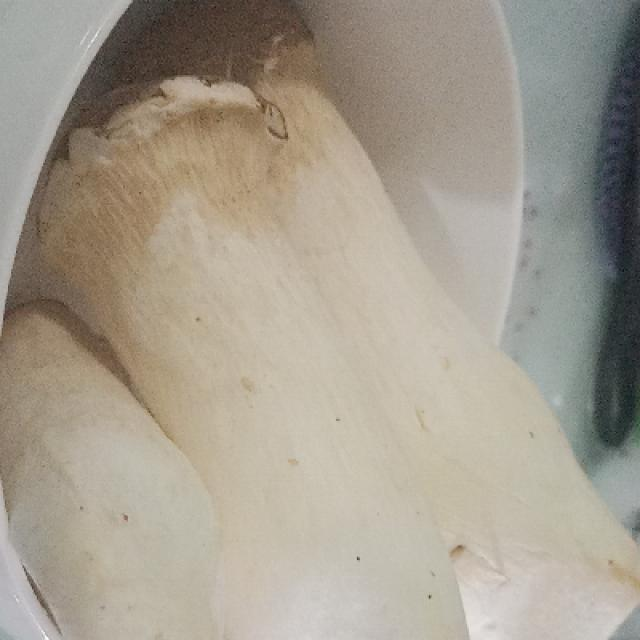Pleurotus eryngii: (9, 0, 637, 640)
